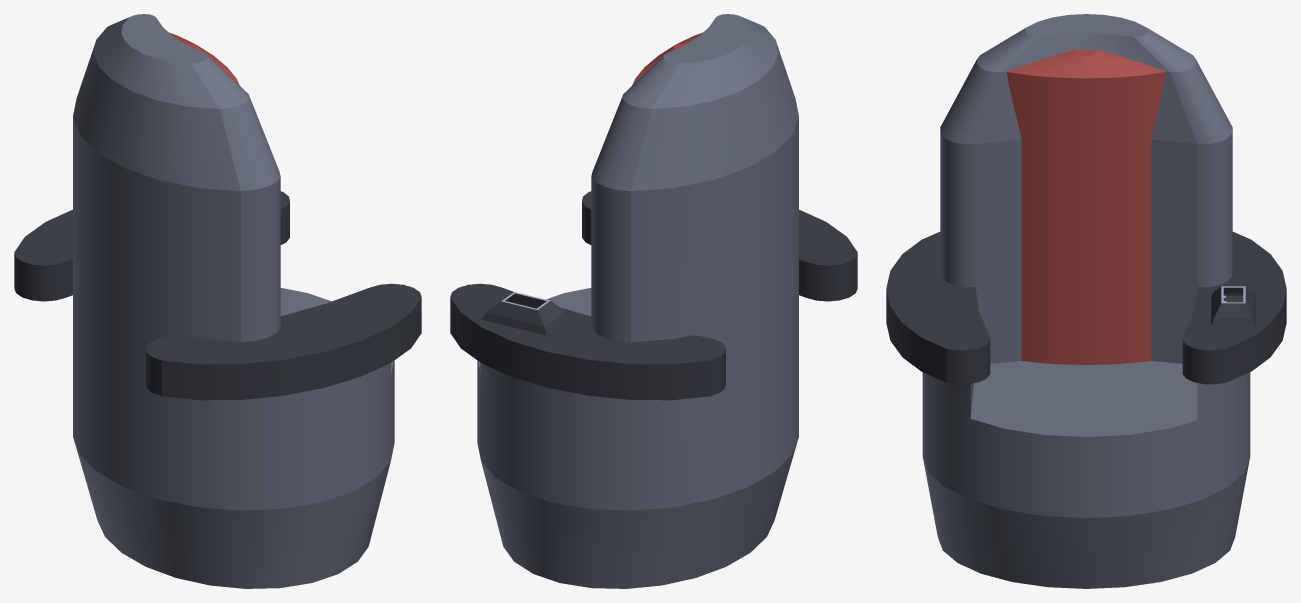
The model's file is PreSeat.fbx.
3 renders of one model, left to right at view 1: azimuth 30°, elevation 25°; view 2: azimuth 150°, elevation 25°; view 3: azimuth 270°, elevation 25°, orthographic. The views are drawn at different scales.
Parts seen in each view (by area): view 1: Model; view 2: Model; view 3: Model.
Boxes of the visible parts, x1=… form: Model: x1=14, y1=14, x2=421, y2=588; Model: x1=450, y1=14, x2=857, y2=588; Model: x1=886, y1=14, x2=1286, y2=588.
Bounding box in the file's own units: 87.9 × 148 × 113.
